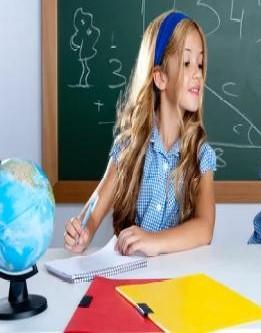cheating: (55, 7, 227, 273)
